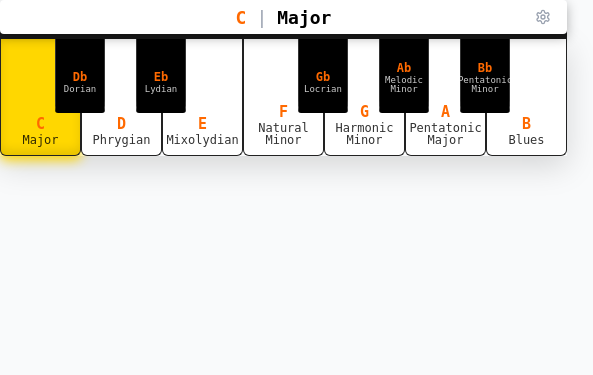
Test case: ScaleKeySwitches12 Settings Cog › Given ScaleKeySwitches12 renders, Assert createPortal is successfully imported and used to render menus inside document.body
# Click to open root menu
Click the text with test id "top-strip-root" at (241, 17), box [236,6,246,28]
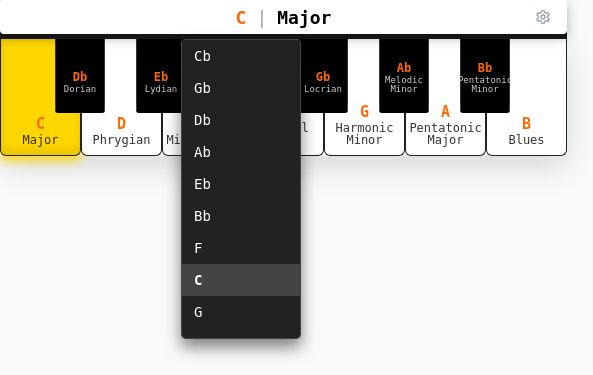
Expected: the text with test id "root-option-C" is shown, [182,264,300,296]
